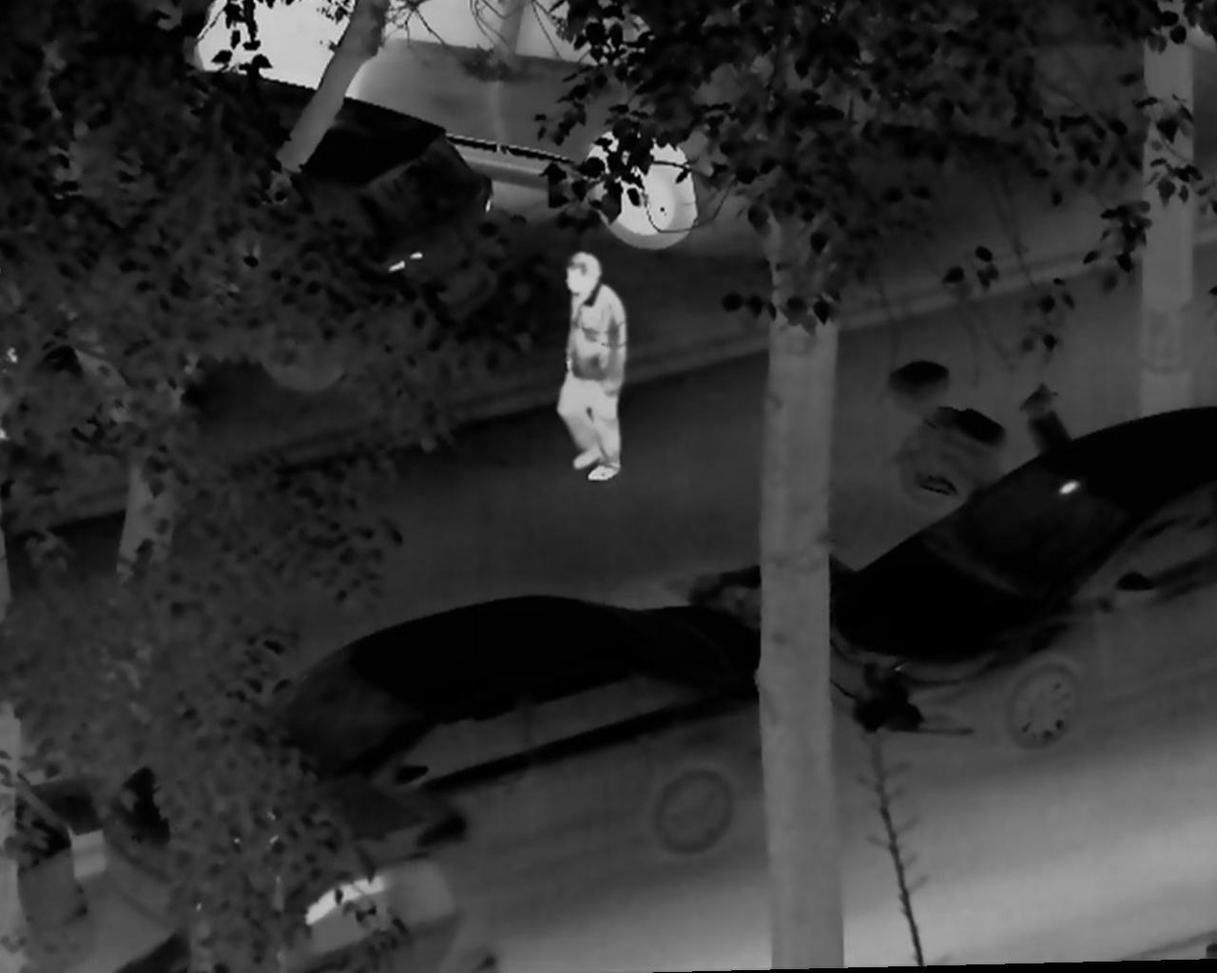person: (543, 249, 629, 486)
